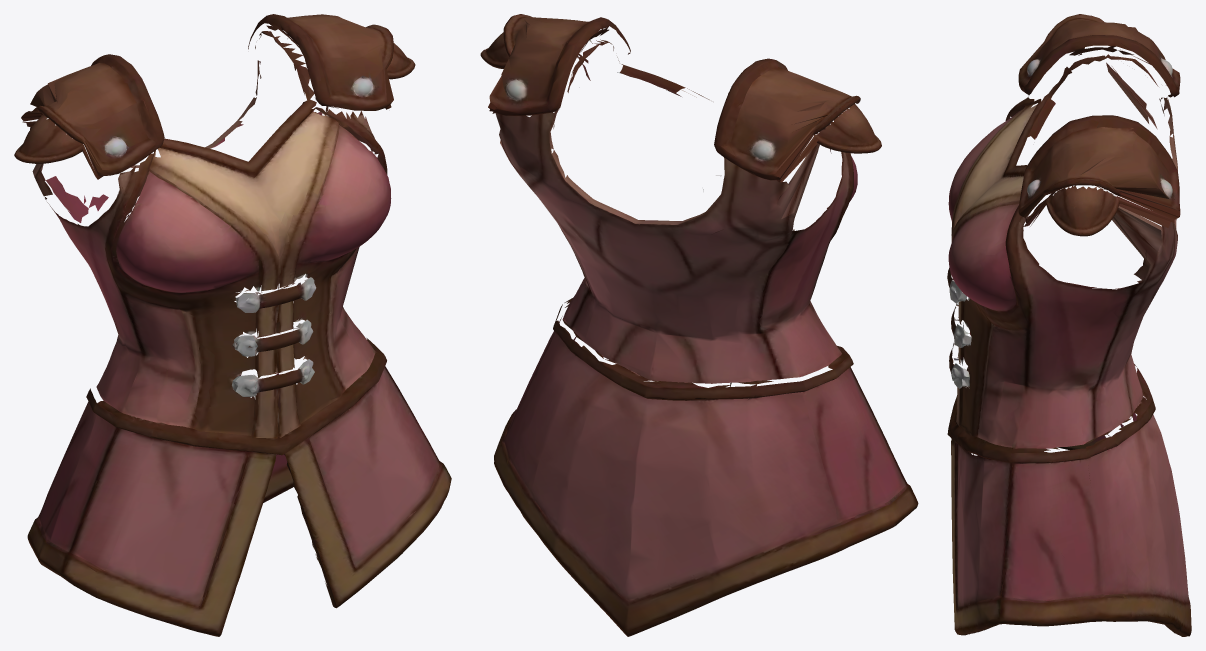
File: assassin_f_corset.glb
3 views of the same model, side by side, from view 1: azimuth 30°, elevation 25°; view 2: azimuth 150°, elevation 25°; view 3: azimuth 270°, elevation 25° (orthographic).
Visible parts, largest first — view 1: lo; view 2: lo; view 3: lo.
Part boxes in pixels (x1,y1,x2,y2): lo: (14, 14, 451, 636); lo: (480, 14, 918, 636); lo: (947, 14, 1191, 636).
Size of the model in its own units: 0.5343 by 0.72 by 0.2849.
Materials: 1 (1 with a texture image).
